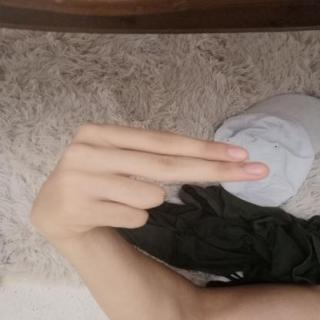AYN: (16, 115, 290, 253)
